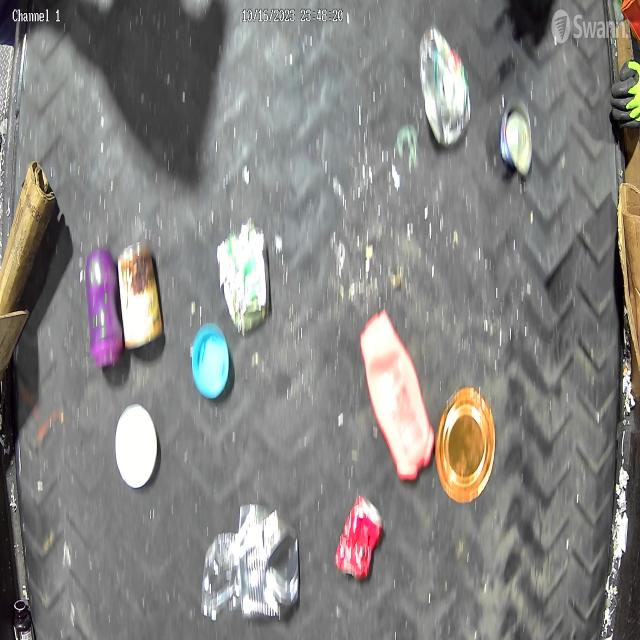can: (202, 504, 300, 622), (435, 385, 496, 504), (118, 241, 164, 351), (336, 494, 384, 586), (500, 97, 532, 176)
non_white_jug: (359, 310, 435, 483)
